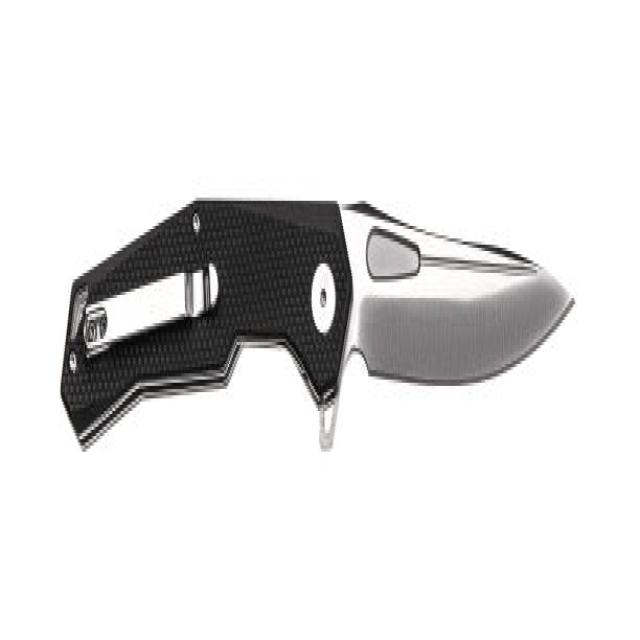knife: (56, 180, 586, 532)
